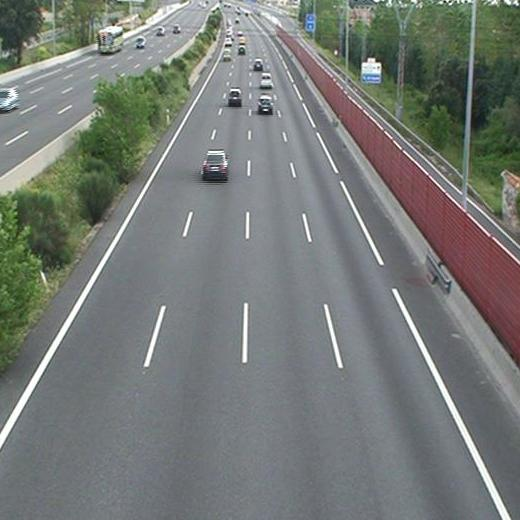car: (203, 151, 227, 177), (258, 96, 273, 113), (229, 89, 242, 103), (260, 73, 273, 87), (253, 59, 263, 70), (223, 49, 231, 60), (237, 45, 245, 56)
